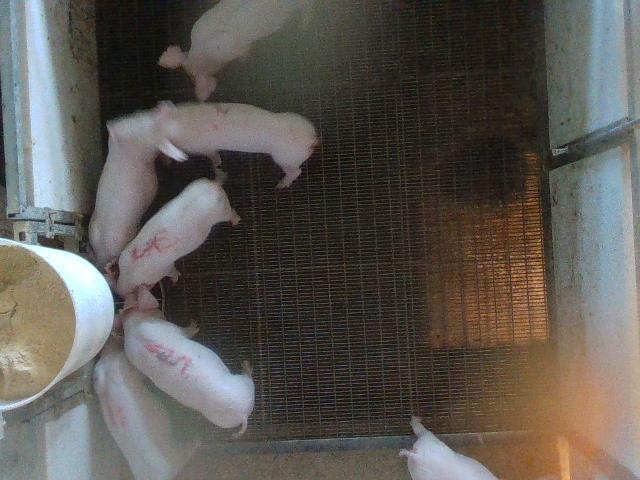pig-3: (115, 286, 254, 433)
pig-4: (94, 335, 200, 479)
pig-5: (116, 179, 239, 298)
